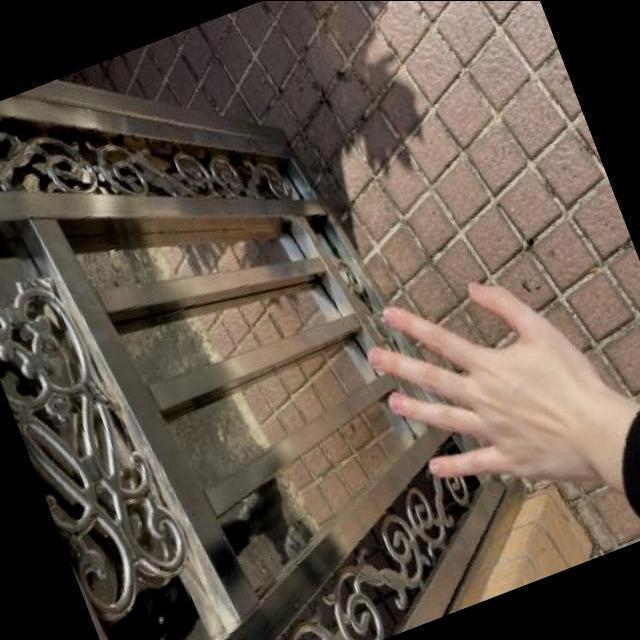hand: (338, 232, 640, 548)
